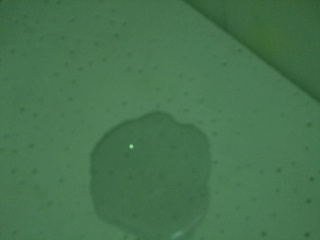Water_detected: (104, 130, 184, 221)
